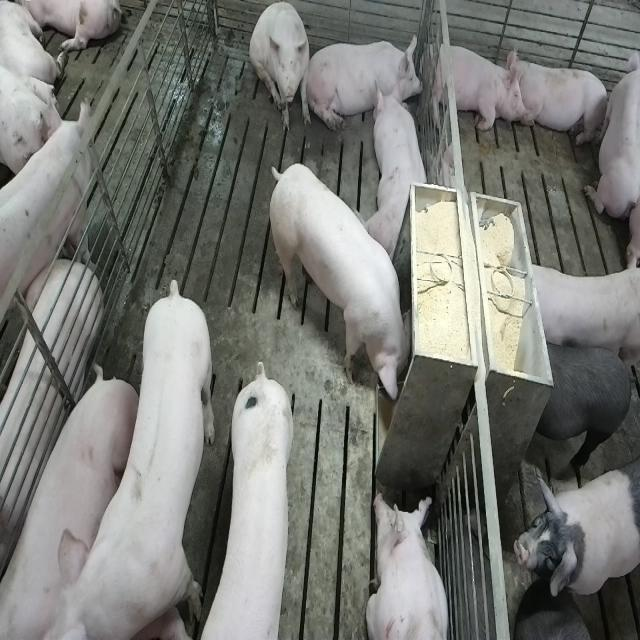Feeding: (264, 162, 410, 404)
Lateral_lying: (0, 370, 142, 640), (0, 265, 100, 618)
Sitting: (250, 2, 311, 136)
Standing: (48, 278, 210, 638), (203, 371, 295, 640), (0, 95, 93, 331), (512, 467, 637, 600), (530, 336, 636, 472), (522, 257, 637, 366), (514, 609, 607, 640)
Sternal_lying: (366, 485, 451, 640), (369, 81, 431, 263), (311, 31, 421, 131), (583, 36, 637, 222), (510, 51, 611, 149), (425, 36, 524, 134)
